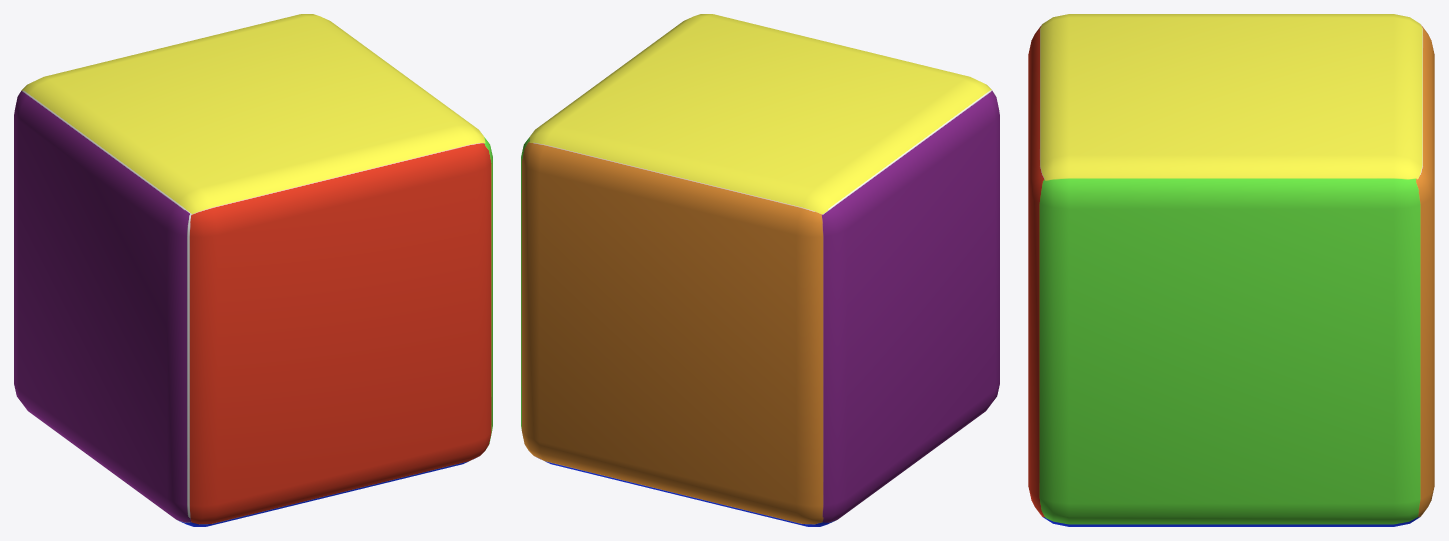
File: dice-empty.glb
3 views of the same model, side by side, from view 1: azimuth 30°, elevation 25°; view 2: azimuth 150°, elevation 25°; view 3: azimuth 270°, elevation 25° (orthographic). The views are drawn at different scales.
Parts seen in each view (by area): view 1: Cube; view 2: Cube; view 3: Cube.
Part boxes in pixels (left/top/right/bottom): Cube: left=14, top=14, right=492, bottom=526; Cube: left=521, top=14, right=999, bottom=526; Cube: left=1028, top=14, right=1434, bottom=526.
Bounding box in the file's own units: 2 × 2 × 2.
1 material, 1 textured.
